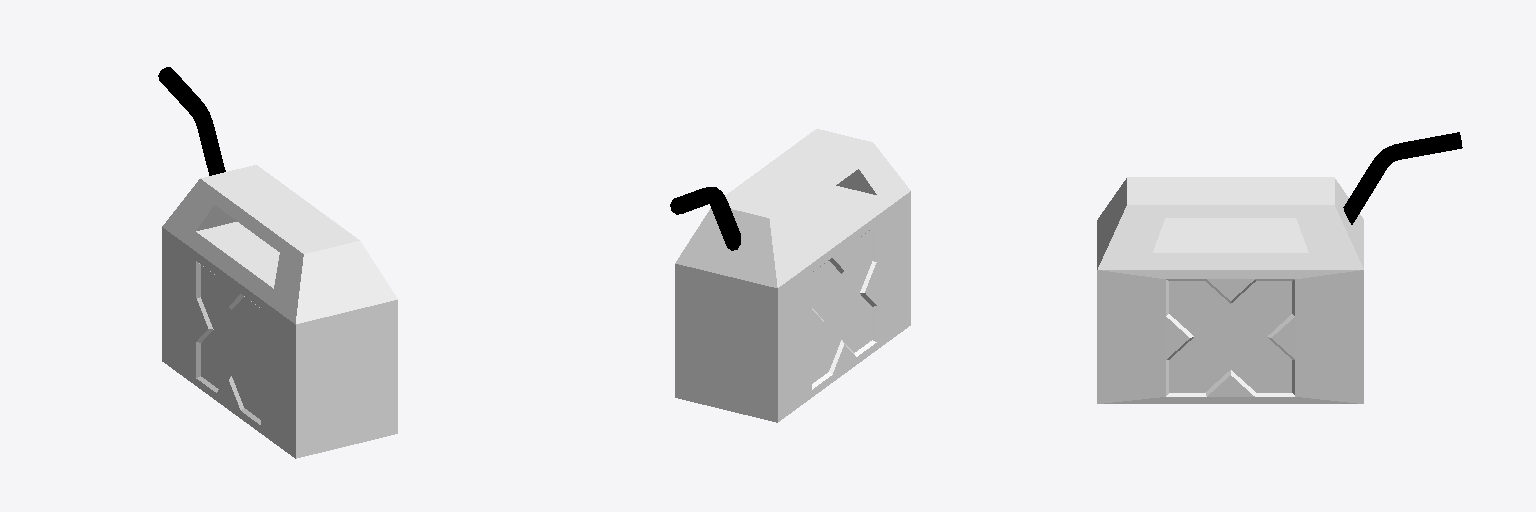
3 views of the same model, side by side, from view 1: azimuth 30°, elevation 25°; view 2: azimuth 150°, elevation 25°; view 3: azimuth 270°, elevation 25° (orthographic).
Parts seen in each view (by area): view 1: Canister1; view 2: Canister1; view 3: Canister1.
Part boxes in pixels (x1,y1,x2,y2): Canister1: (158,67,397,458); Canister1: (670,129,910,422); Canister1: (1097,132,1462,403).
Size of the model in its own units: 0.4036 by 0.9187 by 1.23.
1 materials, 1 textured.